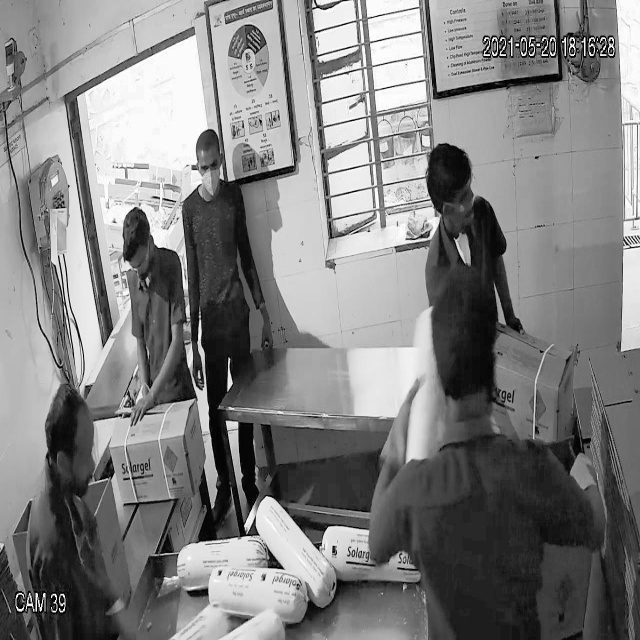Sin_gafas: (195, 158, 222, 179)
